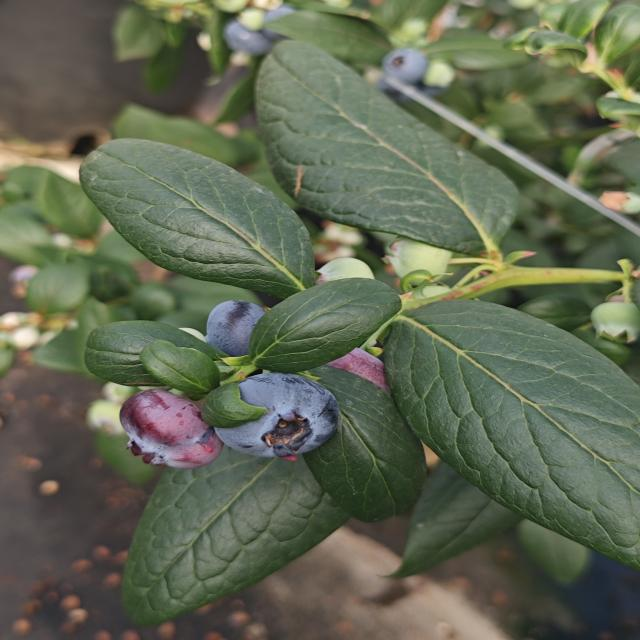ripe: (218, 364, 345, 472), (113, 382, 227, 473), (176, 288, 290, 361), (366, 38, 452, 105), (222, 4, 307, 58)
